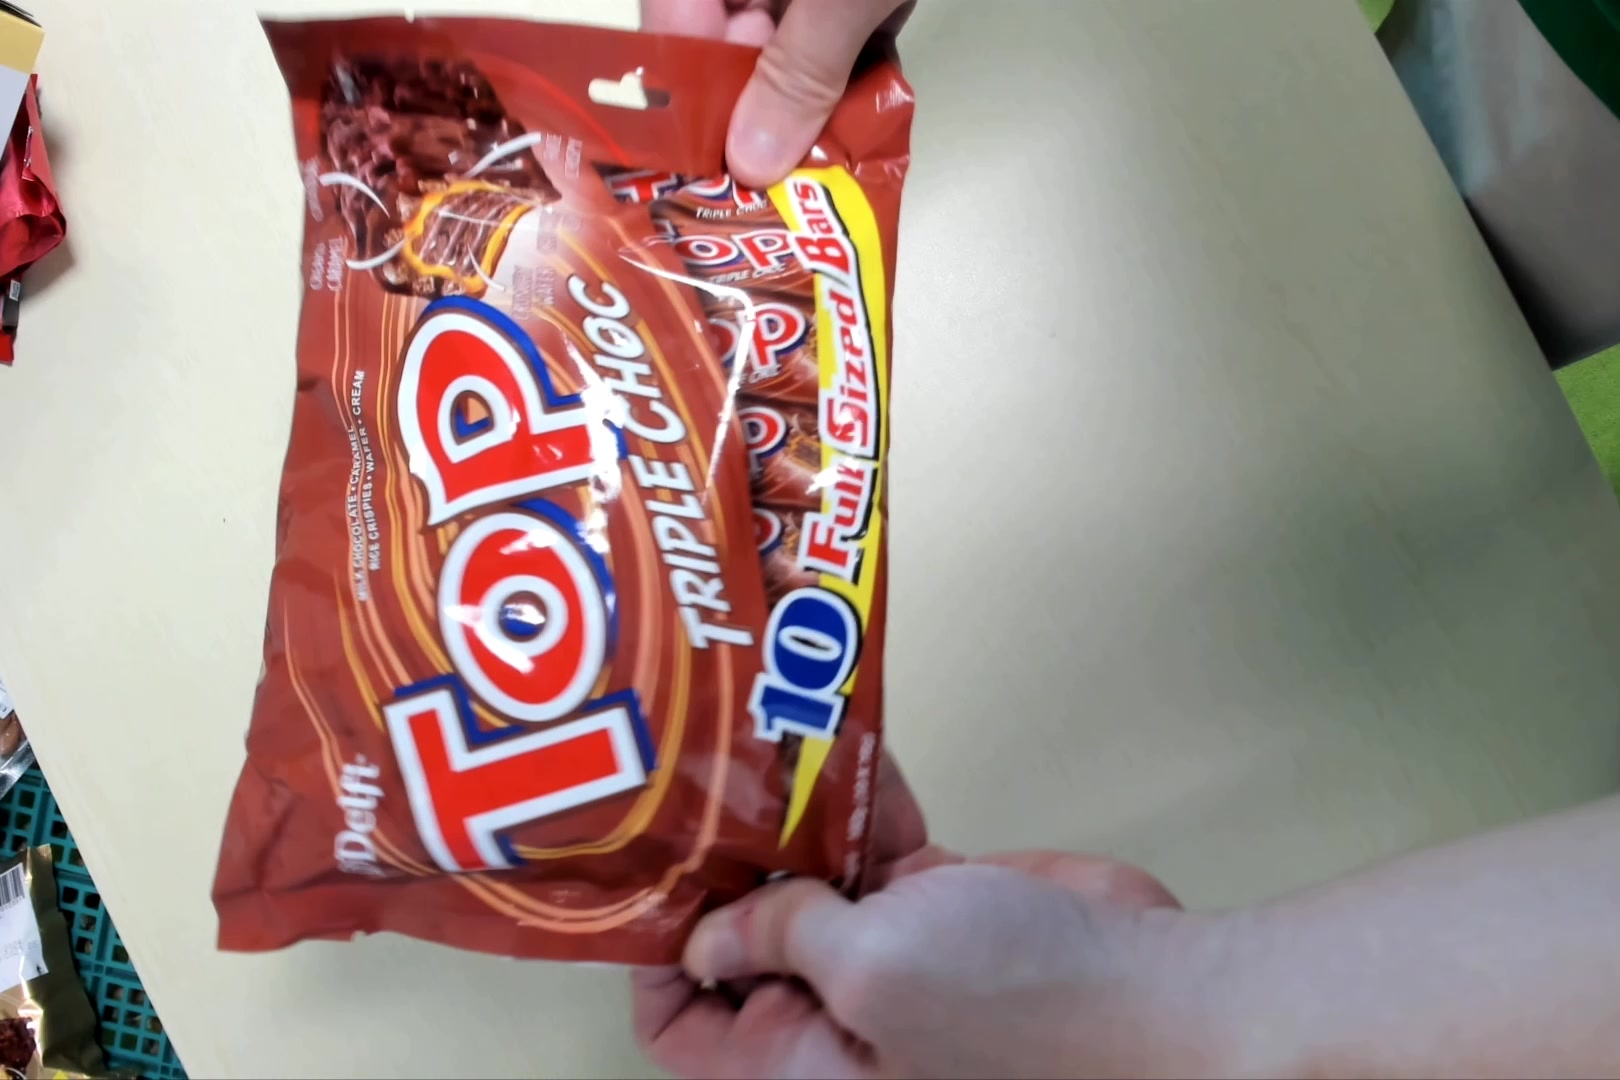SweetsChocolatesOthers_100-199g_NonHalal_NonHealthy: (233, 12, 906, 1000)
